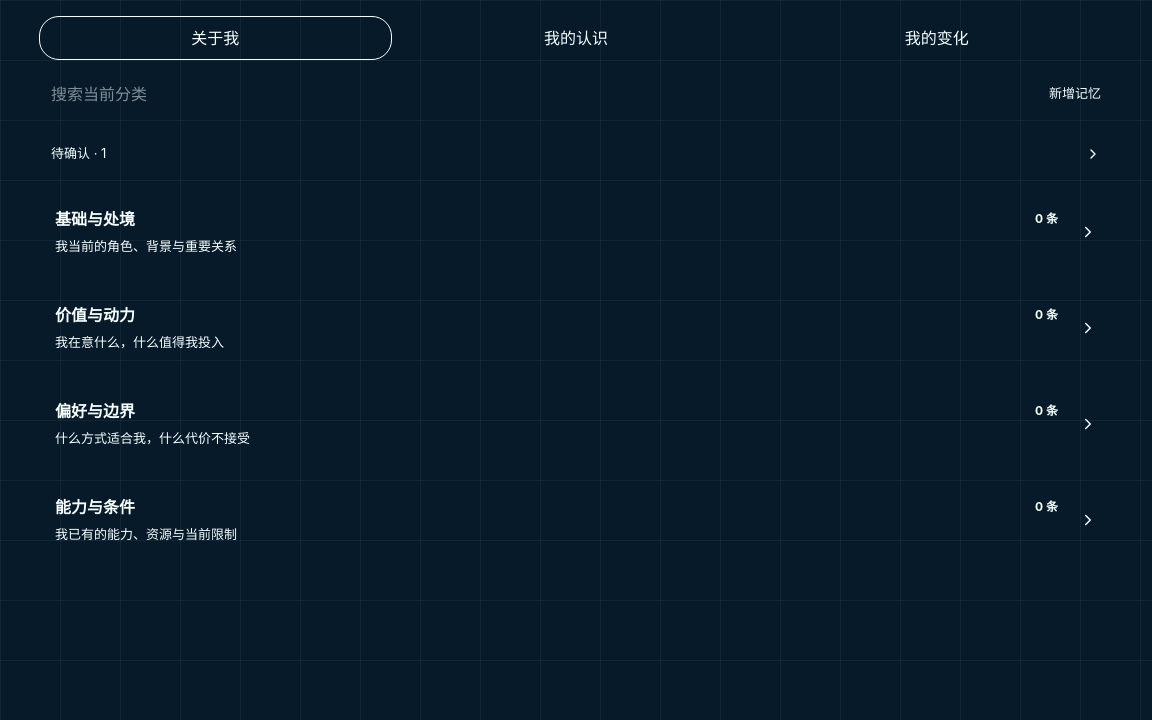
Test case: confirms one direction candidate into the canonical action store
This screenshot has width=1152, height=720.
Click the button "待确认 · 1": (79, 153) [39,132,1113,176]
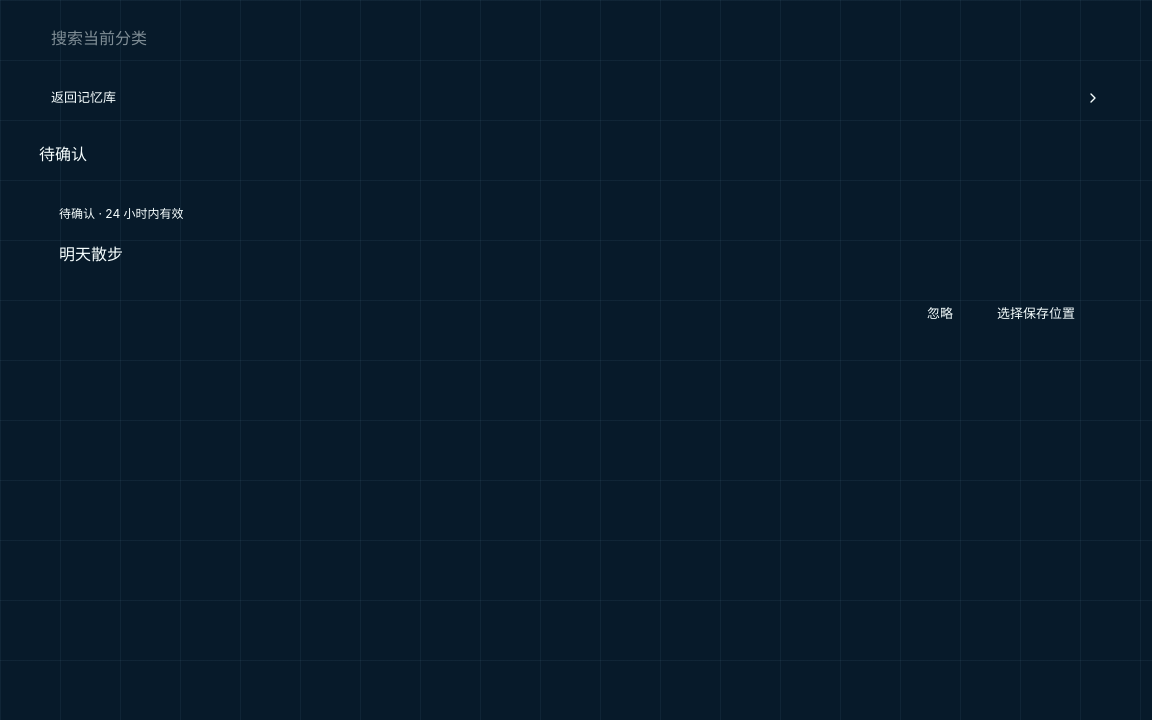
Click the button "明天散步": (91, 254) [59,232,1093,276]
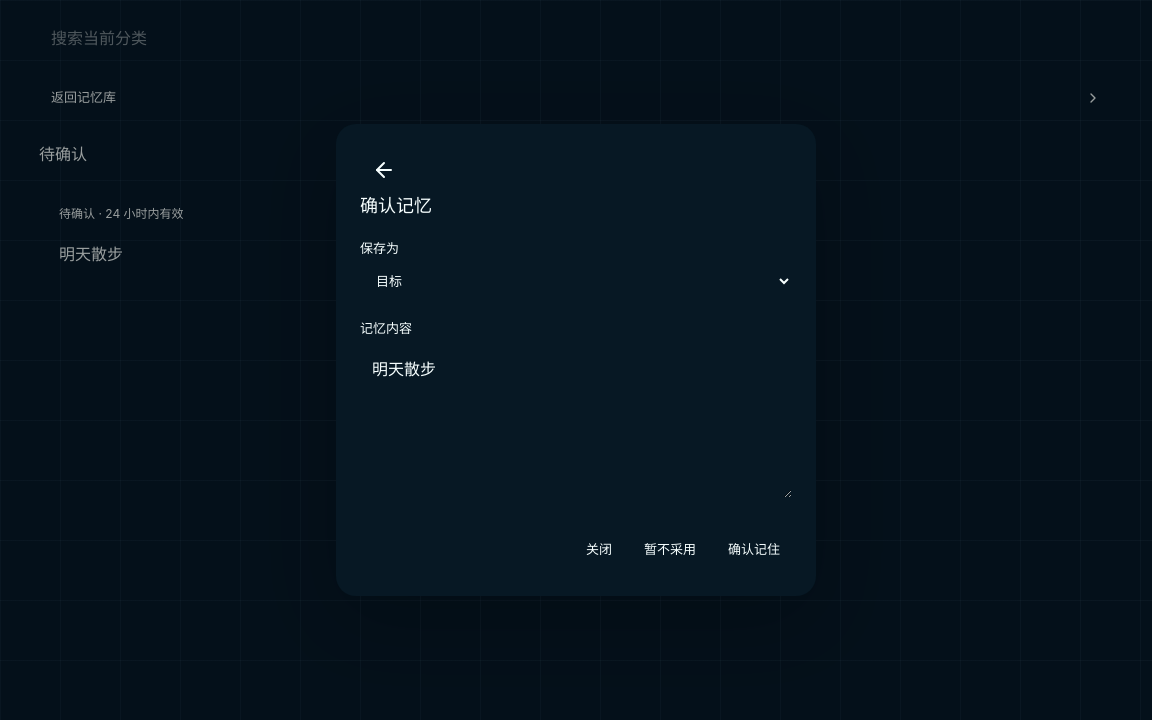
Select "行动" in the dropdown named "保存类型": (576, 280) [360,258,792,302]
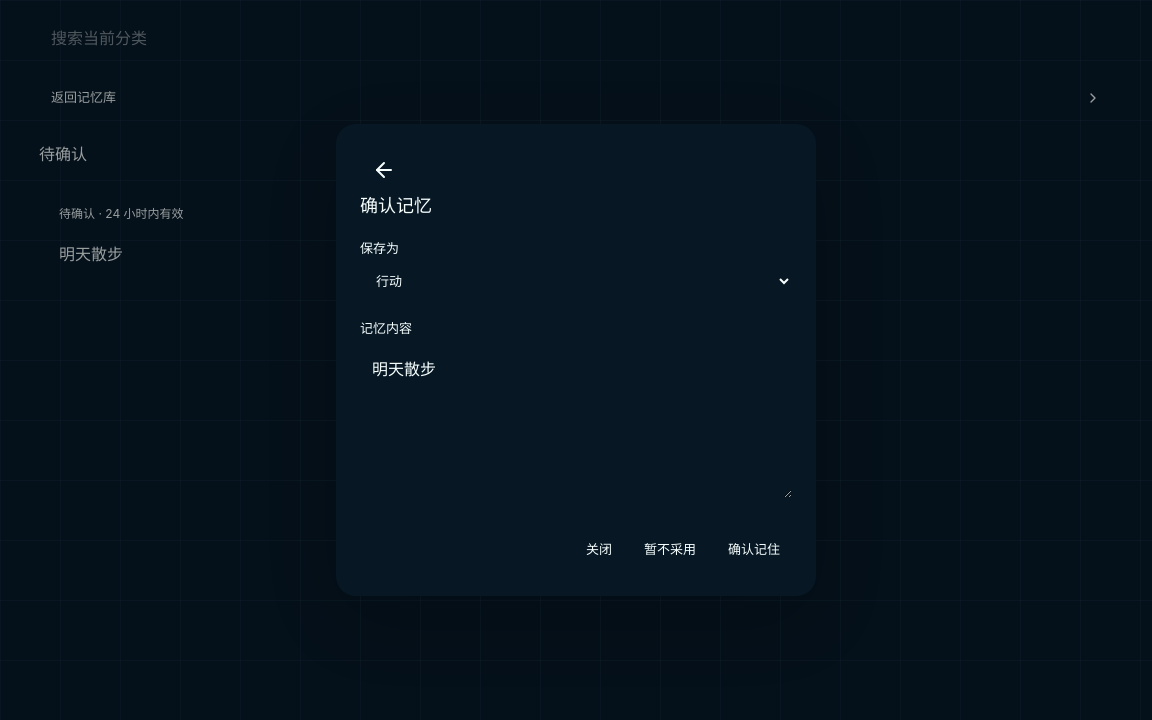
Click the button "确认记住": (754, 550) [716,528,792,572]
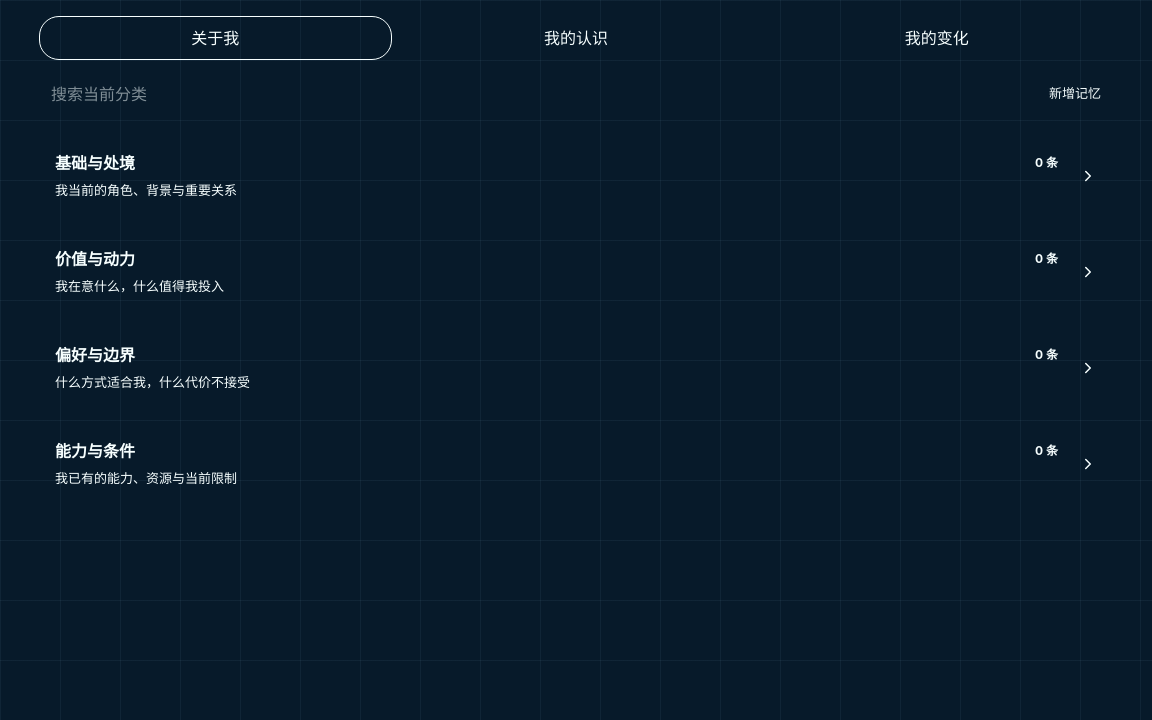
Expected: the button "待确认 · 1" is not shown
Expected: the dialog is gone
